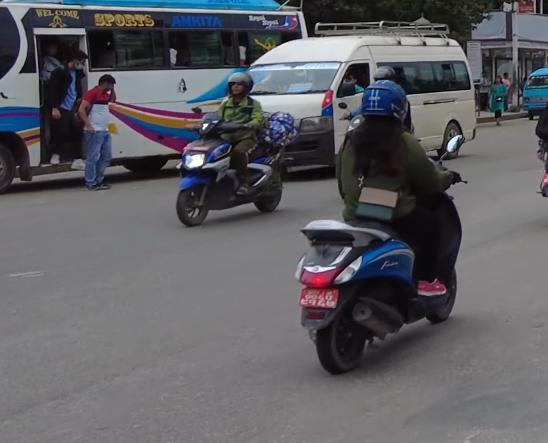micro_bus: (238, 18, 482, 165)
scooter: (293, 159, 473, 376), (171, 104, 285, 228)
